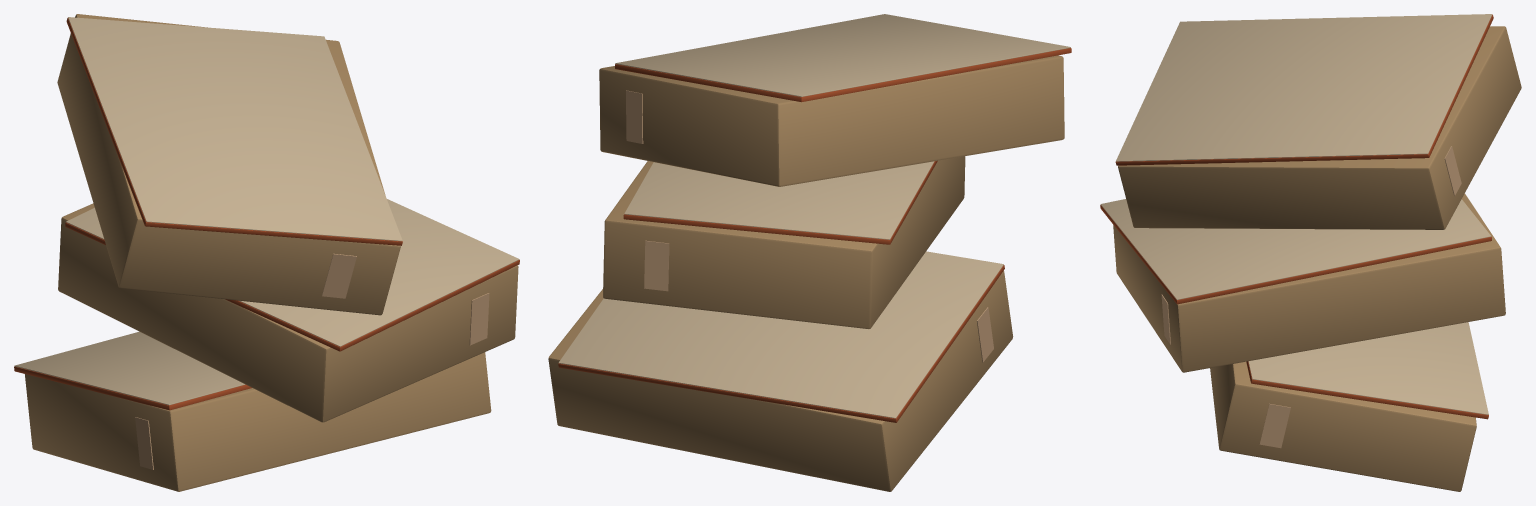
Rendered from REV-CER-002_anim.glb.
The picture shows the model from 3 angles, left to right: view 1: azimuth 30°, elevation 25°; view 2: azimuth 150°, elevation 25°; view 3: azimuth 270°, elevation 25°; orthographic projection. The views are drawn at different scales.
Parts seen in each view (by area): view 1: REV-CER-002_anim2, REV-CER-002_anim1, REV-CER-002_anim0; view 2: REV-CER-002_anim0, REV-CER-002_anim2, REV-CER-002_anim1; view 3: REV-CER-002_anim2, REV-CER-002_anim1, REV-CER-002_anim0.
Boxes of the visible parts, x1=… form: REV-CER-002_anim2: x1=57, y1=14, x2=402, y2=315; REV-CER-002_anim1: x1=58, y1=199, x2=519, y2=422; REV-CER-002_anim0: x1=14, y1=331, x2=491, y2=491; REV-CER-002_anim0: x1=548, y1=251, x2=1013, y2=491; REV-CER-002_anim2: x1=599, y1=14, x2=1071, y2=186; REV-CER-002_anim1: x1=603, y1=156, x2=965, y2=329; REV-CER-002_anim2: x1=1115, y1=14, x2=1521, y2=229; REV-CER-002_anim1: x1=1100, y1=193, x2=1505, y2=372; REV-CER-002_anim0: x1=1210, y1=322, x2=1488, y2=491.
Size of the model in its own units: 0.5382 by 0.5433 by 0.5697.
Materials: 6 (4 with a texture image).
